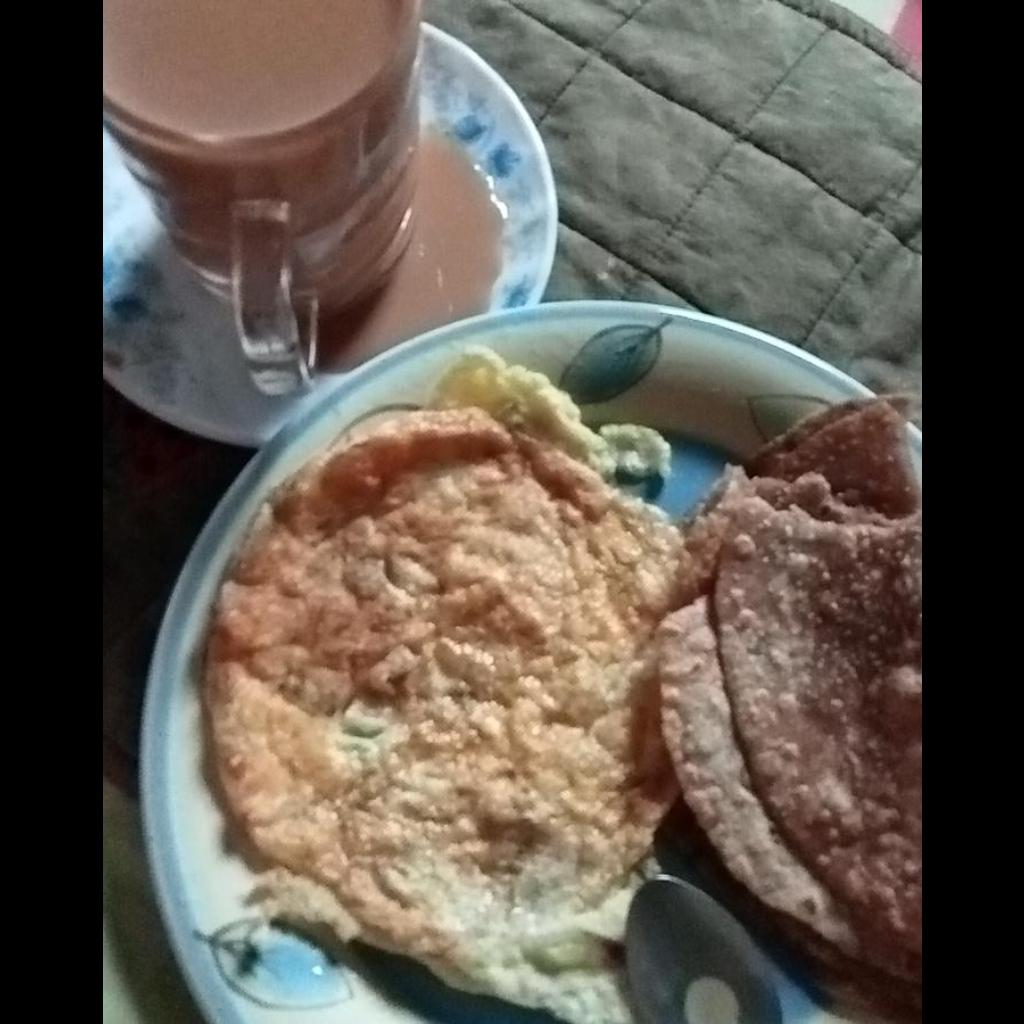cha: (104, 1, 414, 142)
egg-poached: (196, 353, 676, 1018)
ruti: (660, 396, 920, 985)
